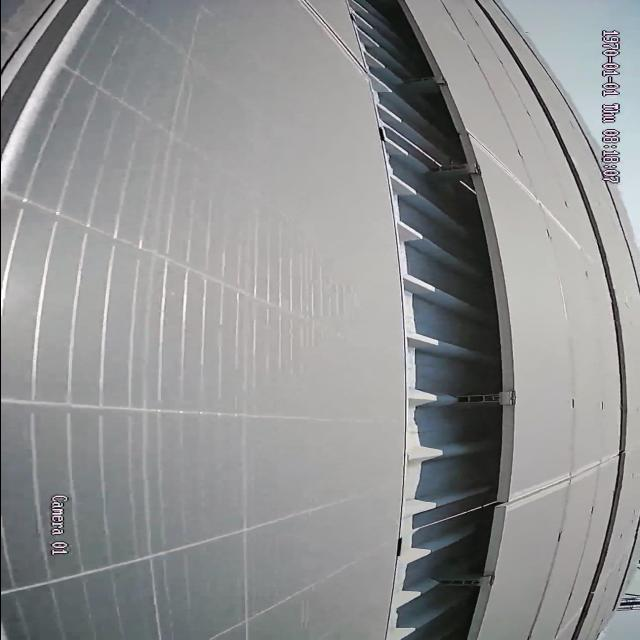interior panel: (3, 0, 106, 176), (470, 134, 567, 232), (510, 456, 608, 510)
outher panel: (352, 3, 513, 640)
